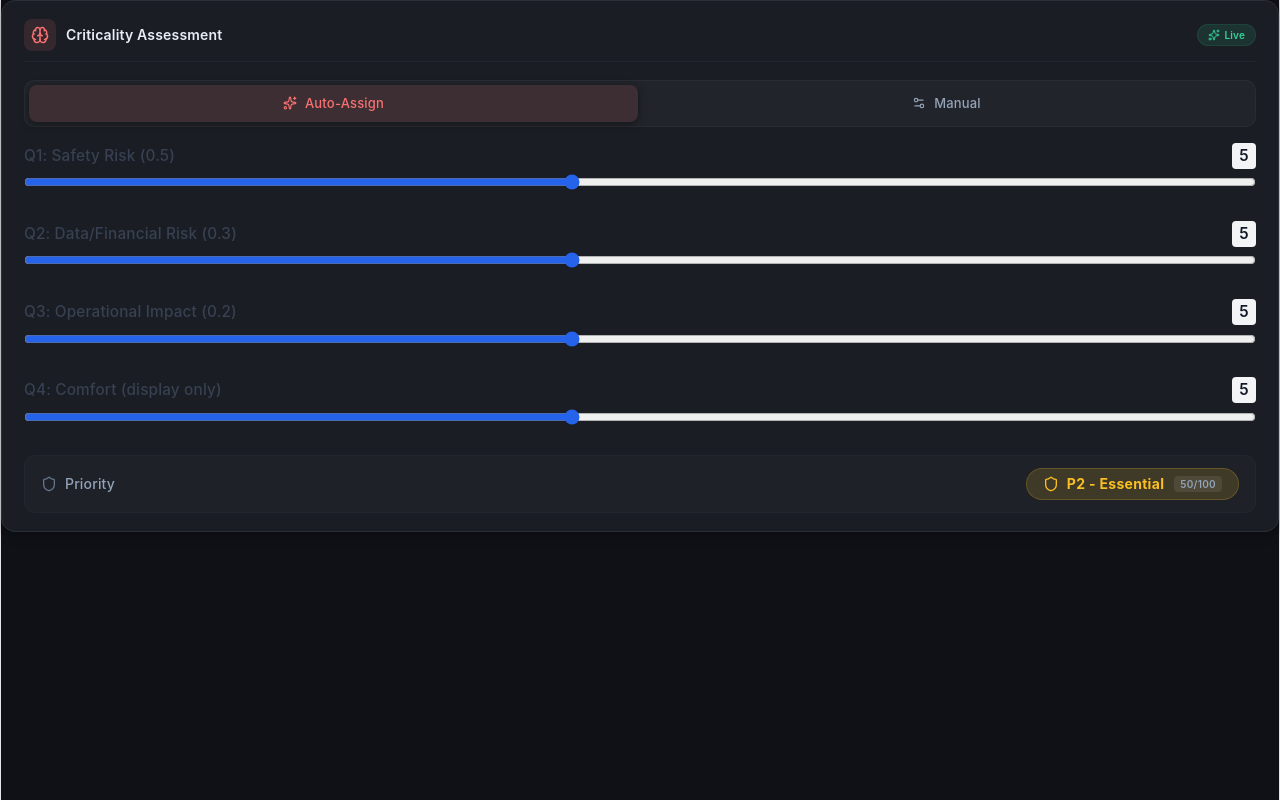
it: CriticalityWizard › shows the manual dropdown in manual mode
Click the radio button with test id "mode-manual" at (946, 103), box [912,95,981,111]
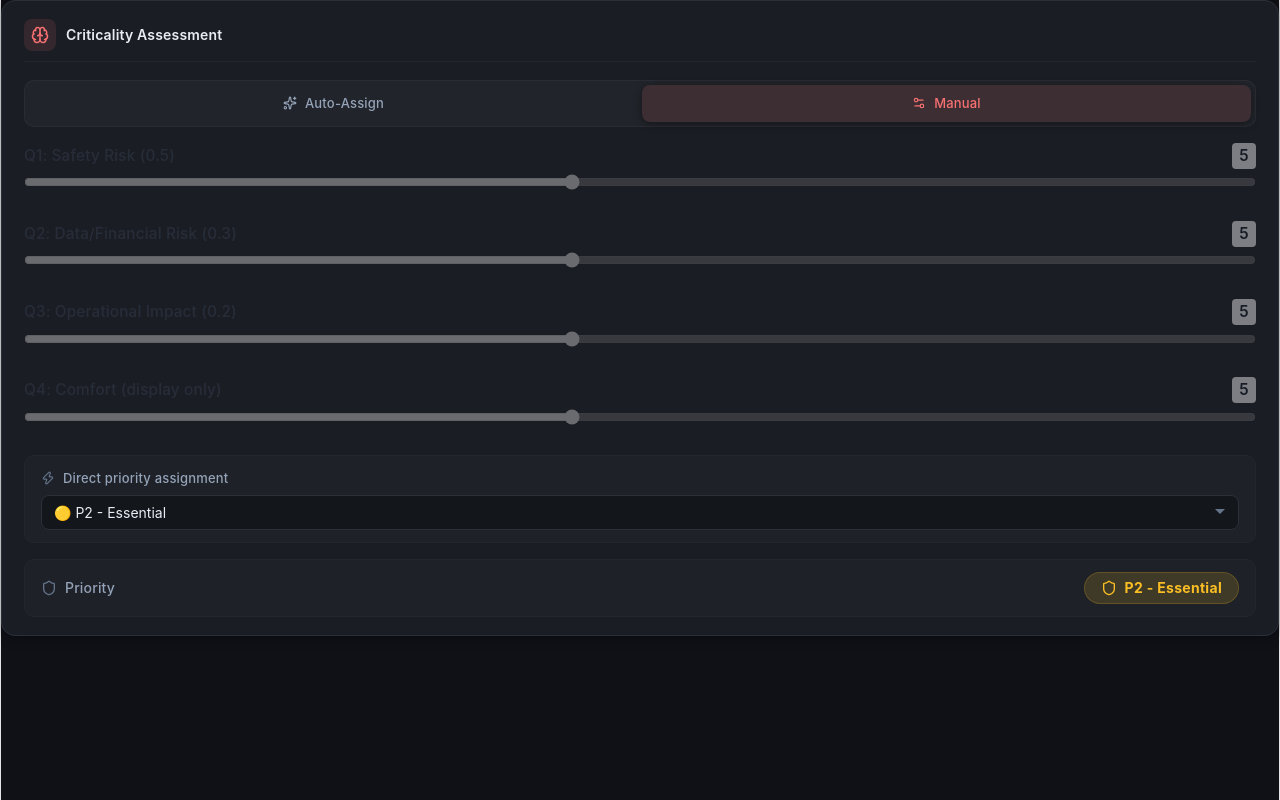
Check: the element with test id "manual-priority-dropdown" is shown, box [24,455,1256,543]
Check: the dropdown with test id "manual-priority-select" is shown, box [41,495,1239,530]
